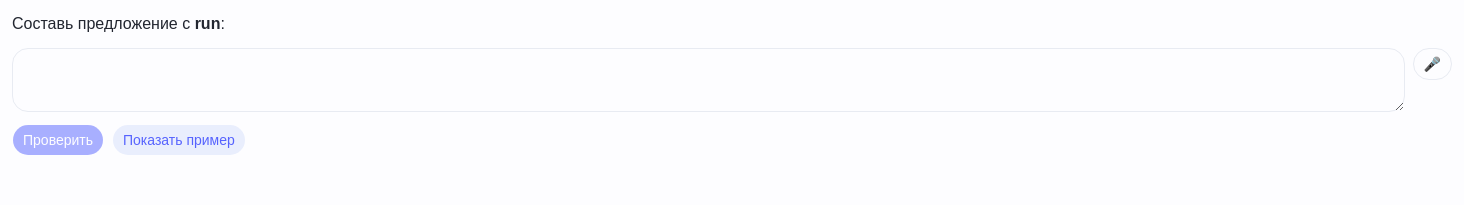
Scenario: SentencePractice › shows a loader while the check is pending
Type "I run." into the text box at (708, 80), box x1=12 y1=48 x2=1404 y2=112
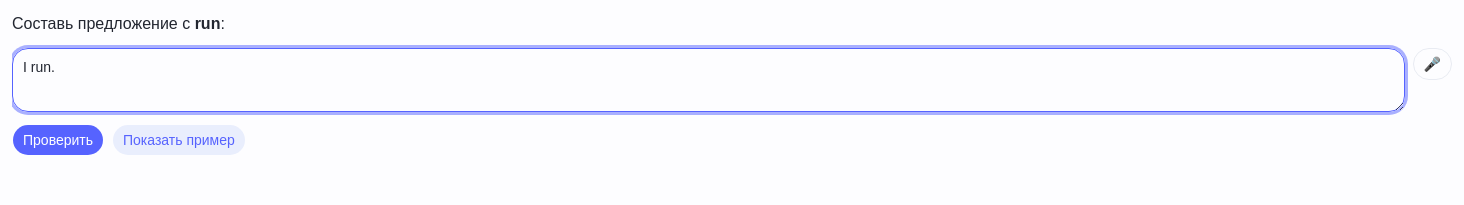
Click the button "Проверить" at (58, 140), box x1=12 y1=124 x2=104 y2=156
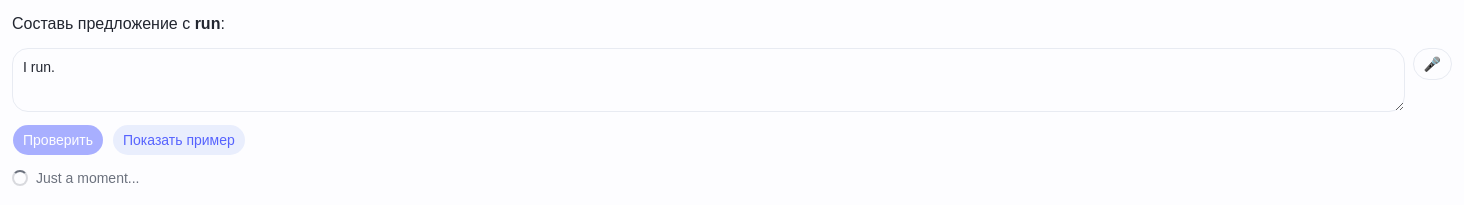
Check: the text "Just a moment . . ." is shown, box x1=36 y1=168 x2=140 y2=188
Check: the message "Just a moment . . ." is shown, box x1=12 y1=170 x2=140 y2=186
